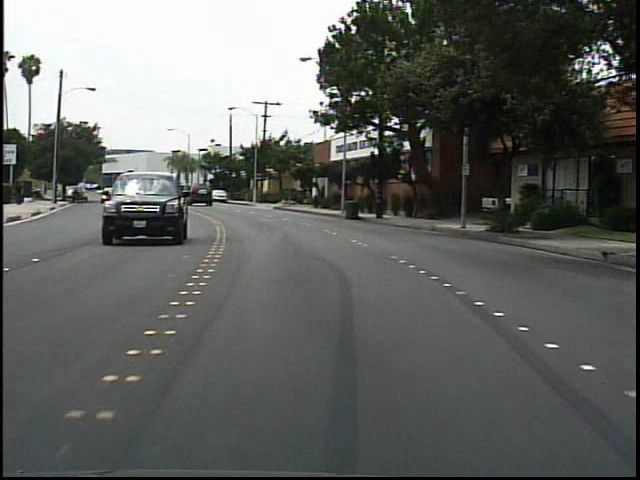person: (13, 179, 30, 208)
